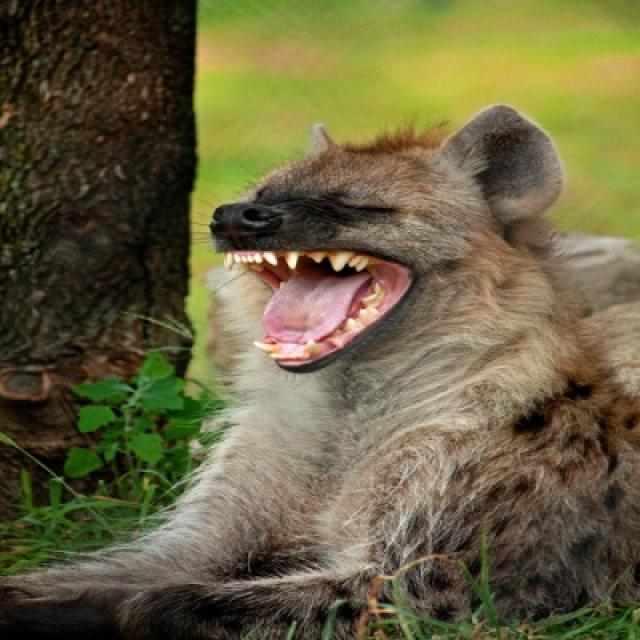hyena: (0, 104, 638, 638)
